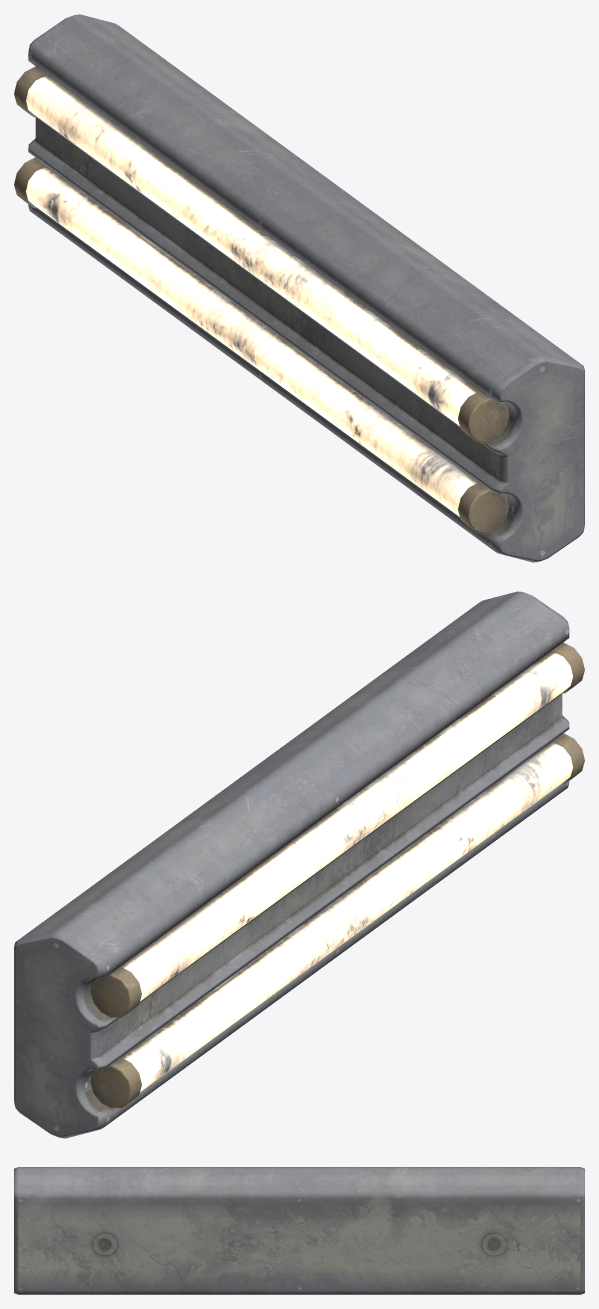
Rendered from SM_Fluorescent_Ligh03.glb.
3 renders of one model, top to bottom at view 1: azimuth 30°, elevation 25°; view 2: azimuth 150°, elevation 25°; view 3: azimuth 270°, elevation 25°, orthographic. The views are drawn at different scales.
Parts seen in each view (by area): view 1: SM_Fluorescent_Ligh03; view 2: SM_Fluorescent_Ligh03; view 3: SM_Fluorescent_Ligh03.
Boxes of the visible parts, left/top/right/bottom form: SM_Fluorescent_Ligh03: left=14, top=14, right=584, bottom=562; SM_Fluorescent_Ligh03: left=14, top=591, right=584, bottom=1138; SM_Fluorescent_Ligh03: left=14, top=1167, right=584, bottom=1294.
Size of the model in its own units: 0.168 by 0.2948 by 1.22.
1 material, 1 textured.
